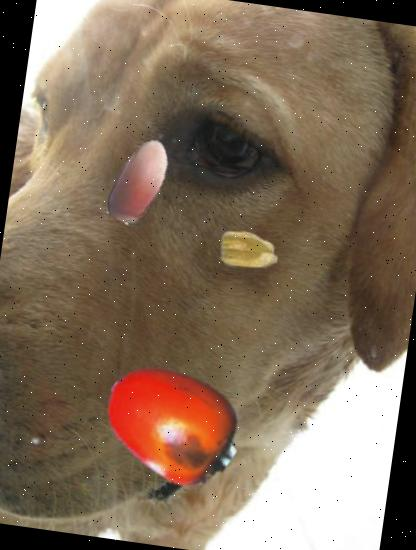Hazelnut: (90, 130, 192, 232)
Kaki: (94, 344, 251, 500)
Physalis: (216, 216, 283, 283)
